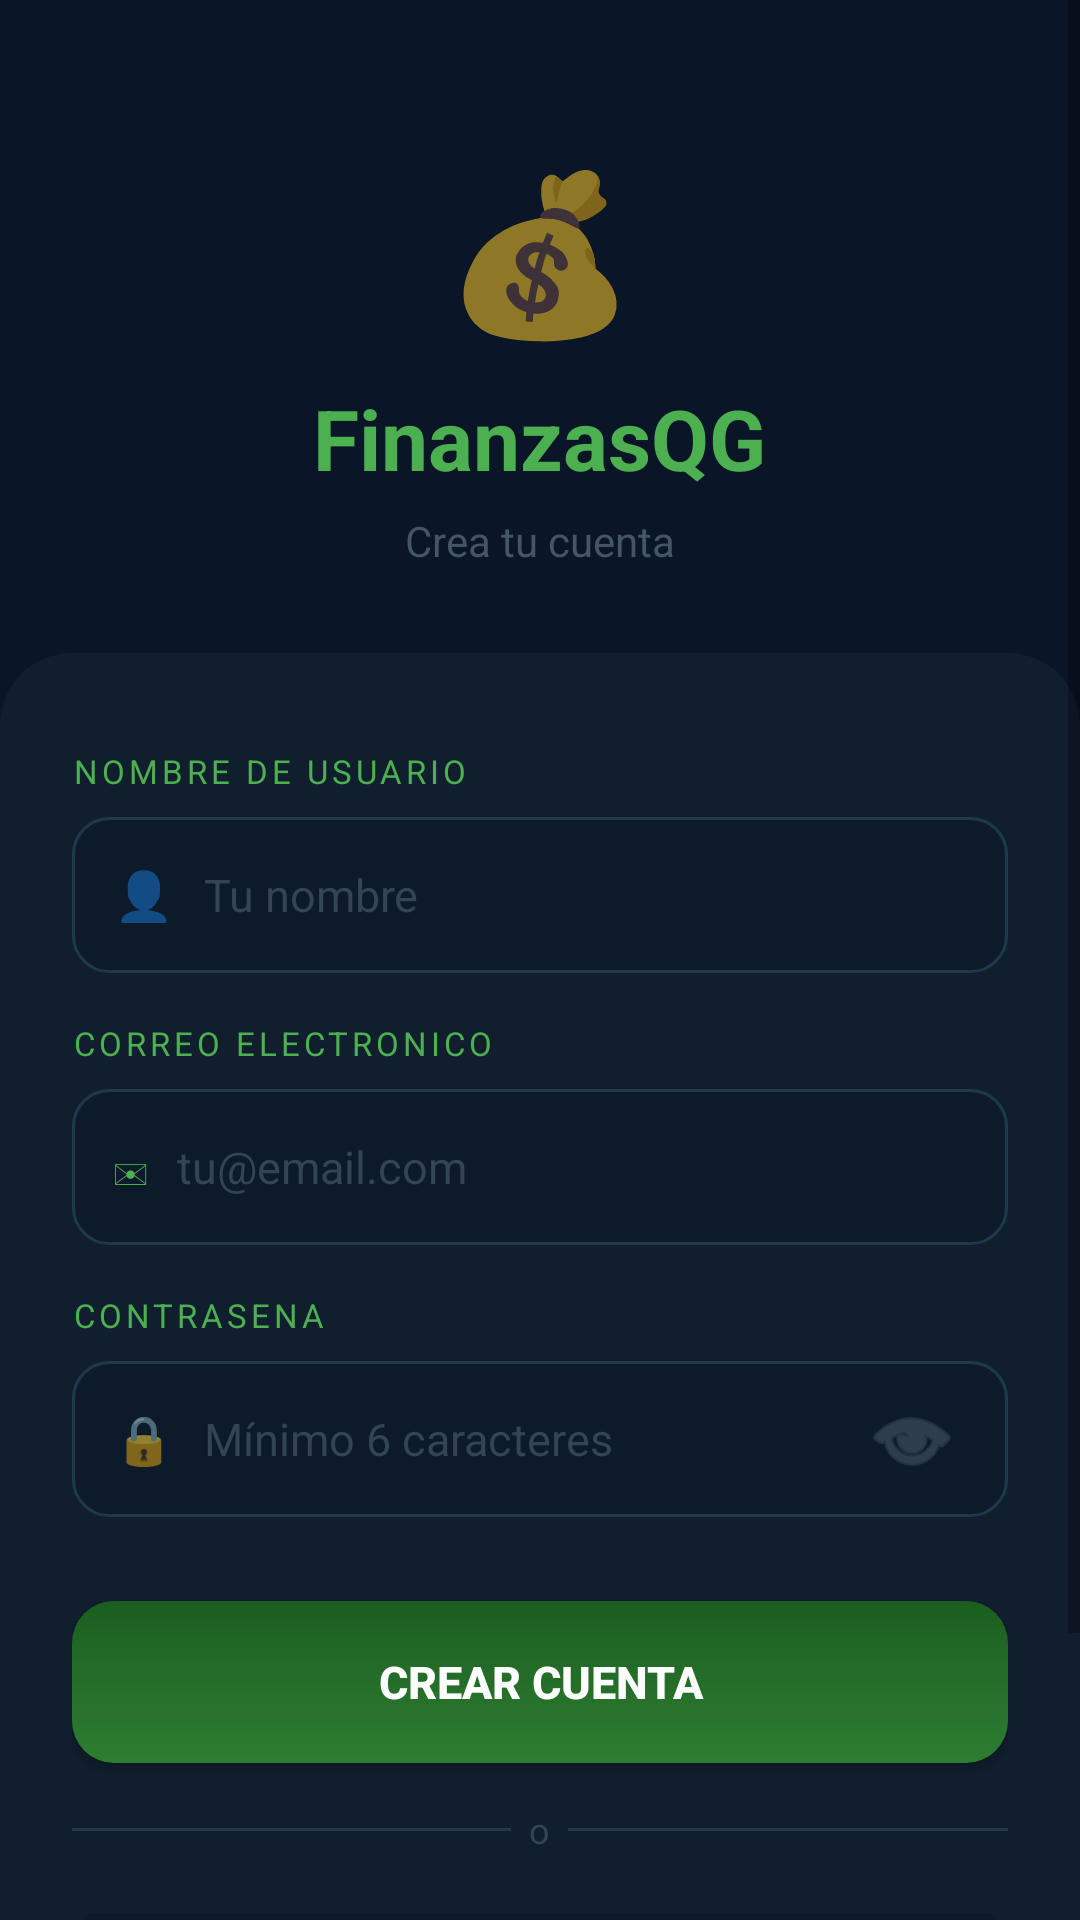

Where to tap for icons on this 1080×1920 app screen, as point (x, y):
view: point (912, 1441)
